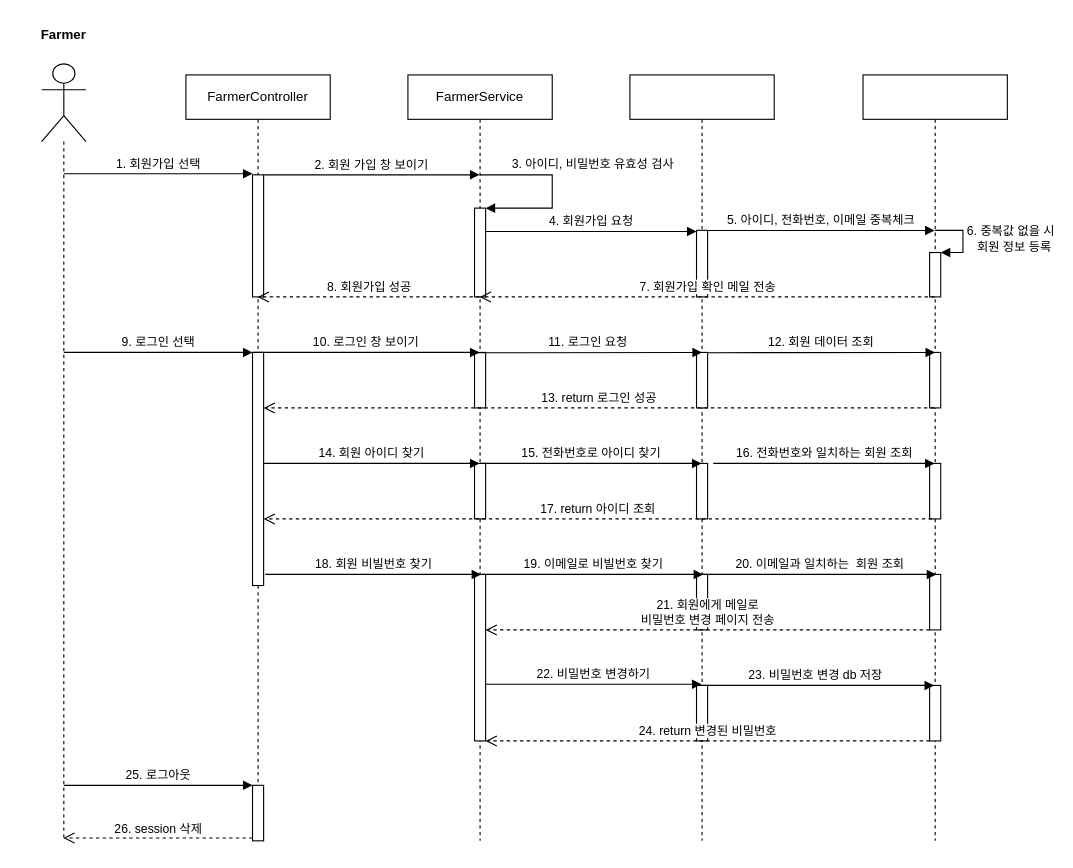
Image size: 1073x868. Some labels were removed from this diagram. The box of each missing label's shape, as (x1, y1, x2, y2) in pixels:
DB: (862, 74, 1007, 841)
FarmerDao: (629, 74, 774, 841)
